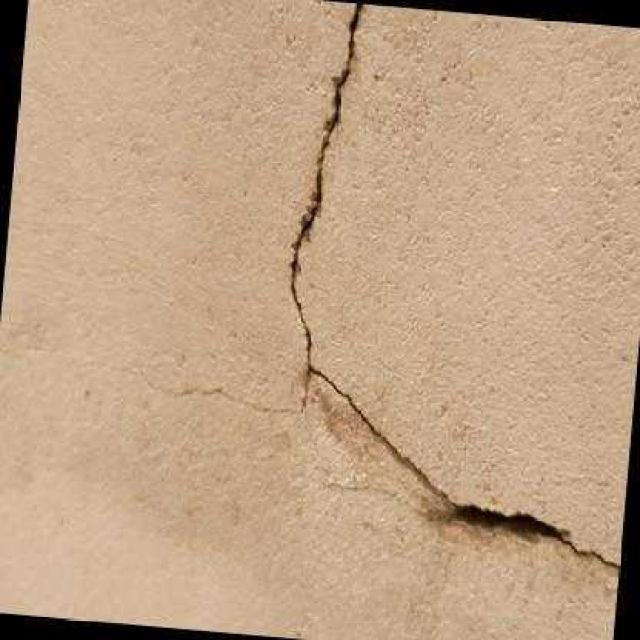D00: (289, 2, 620, 570)
